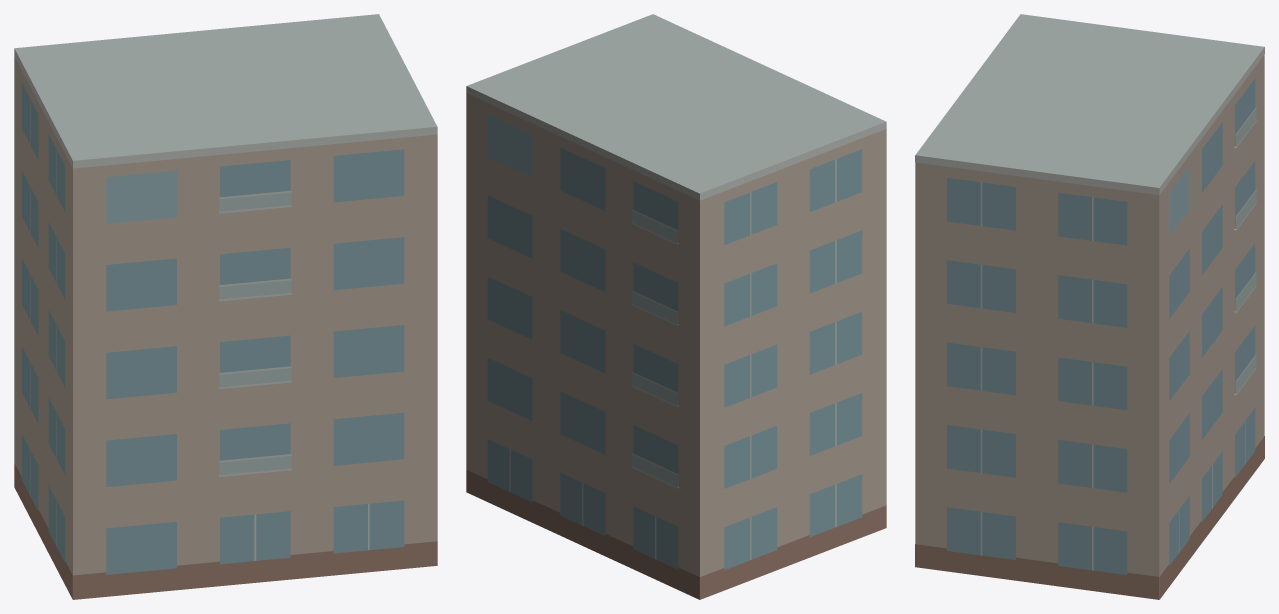
Rendered from survey-upis-32539298.glb.
3 renders of one model, left to right at view 1: azimuth 30°, elevation 25°; view 2: azimuth 150°, elevation 25°; view 3: azimuth 270°, elevation 25°, orthographic. The views are drawn at different scales.
Parts seen in each view (by area): view 1: survey-upis-32539298.tmp; view 2: survey-upis-32539298.tmp; view 3: survey-upis-32539298.tmp.
Boxes of the visible parts, bbox=[...] form: survey-upis-32539298.tmp: bbox=[14, 14, 437, 599]; survey-upis-32539298.tmp: bbox=[466, 14, 886, 599]; survey-upis-32539298.tmp: bbox=[915, 14, 1264, 599].
Bounding box in the file's own units: 12.69 × 14 × 10.78.
